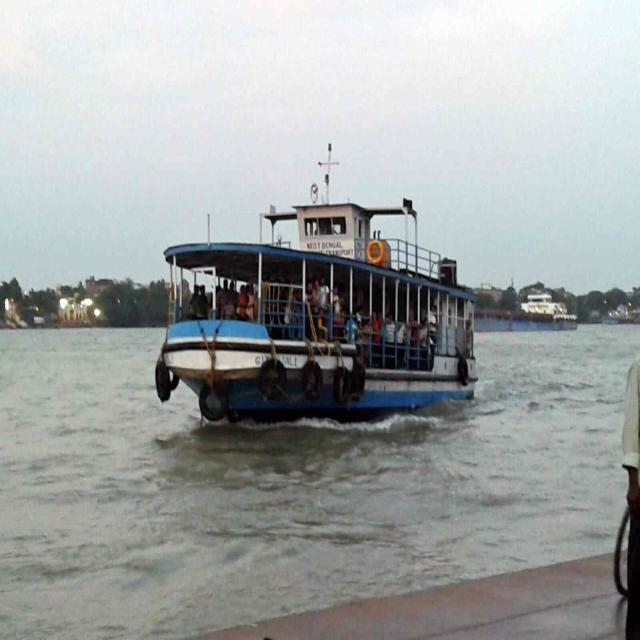houseboat: (159, 143, 489, 411)
